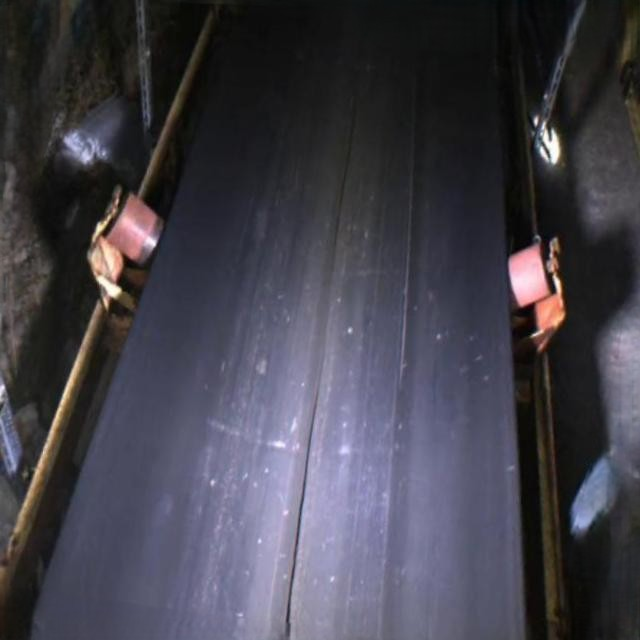Tear: (272, 53, 374, 640)
